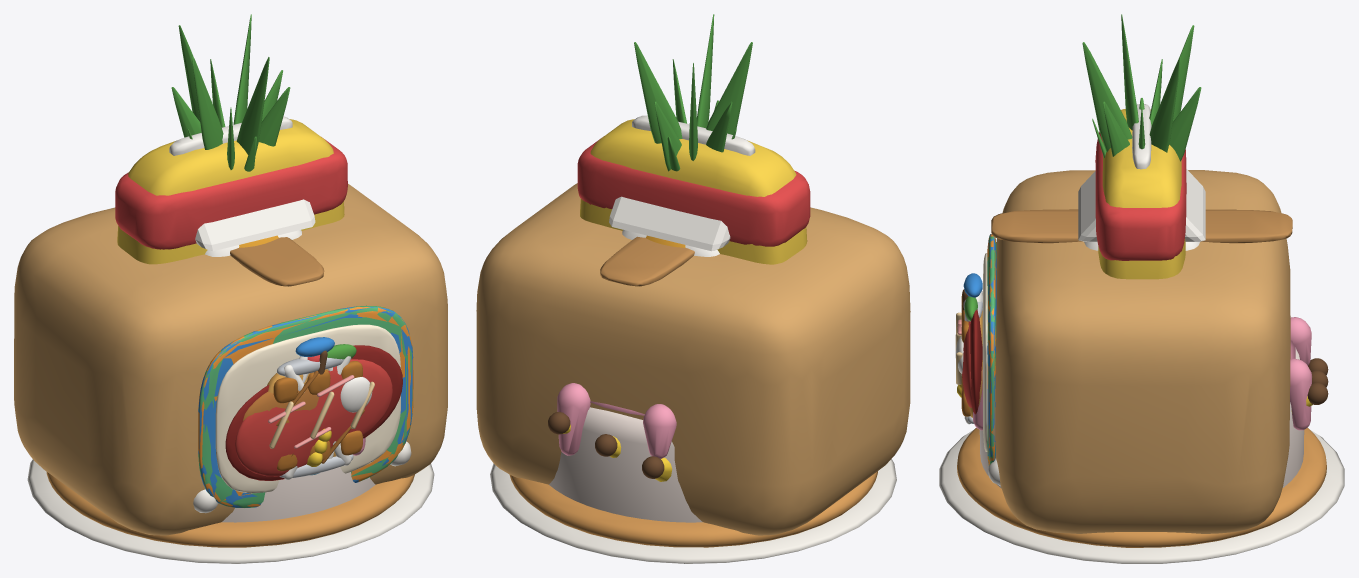
File: productos.glb
The picture shows the model from 3 angles, left to right: view 1: azimuth 30°, elevation 25°; view 2: azimuth 150°, elevation 25°; view 3: azimuth 270°, elevation 25°; orthographic projection.
Parts seen in each view (by area): view 1: caja frutas | caja.002, cereal | franja, cereal | caja, torta | plato, caja frutas | placa clara, pizza | masa, caja carnes | filete, pina | corona 0, caja frutas | placa, leche | cartón, torta | base, caja lacteos | etiqueta.005 (+11 smaller); view 2: caja frutas | caja.002, cereal | franja, cereal | caja, torta | base, torta | plato, pizza | masa, pina | corona 0, leche | cartón, torta | gota 0, caja frutas | cinta, banano | punta 0; view 3: caja frutas | caja.002, torta | plato, pizza | masa, pina | corona 0, cereal | caja, caja frutas | cinta, cereal | franja, leche | cartón, torta | gota 0, caja lacteos | etiqueta.005, caja frutas | placa, torta | base (+5 smaller).
Boxes of the visible parts, <box> form: caja frutas | caja.002: <box>14,184,447,535</box>; cereal | franja: <box>115,138,347,249</box>; cereal | caja: <box>117,119,344,264</box>; torta | plato: <box>27,459,434,563</box>; caja frutas | placa clara: <box>215,324,401,493</box>; pizza | masa: <box>46,471,414,547</box>; caja carnes | filete: <box>235,359,392,476</box>; pina | corona 0: <box>171,14,290,169</box>; caja frutas | placa: <box>198,305,412,507</box>; leche | cartón: <box>169,116,315,256</box>; torta | base: <box>221,467,375,522</box>; caja lacteos | etiqueta.005: <box>198,306,413,507</box>; caja frutas | caja.002: <box>476,183,910,535</box>; cereal | franja: <box>577,138,810,246</box>; cereal | caja: <box>580,119,807,264</box>; torta | base: <box>549,407,702,522</box>; torta | plato: <box>490,459,896,563</box>; pizza | masa: <box>509,471,877,547</box>; pina | corona 0: <box>634,14,752,171</box>; leche | cartón: <box>609,115,755,256</box>; torta | gota 0: <box>557,383,676,458</box>; caja frutas | cinta: <box>600,236,694,286</box>; banano | punta 0: <box>548,411,664,478</box>; caja frutas | caja.002: <box>995,170,1290,533</box>; torta | plato: <box>939,430,1344,563</box>; pizza | masa: <box>957,428,1326,547</box>; pina | corona 0: <box>1082,14,1201,161</box>; cereal | caja: <box>1098,109,1185,279</box>; caja frutas | cinta: <box>991,209,1292,243</box>; cereal | franja: <box>1095,131,1186,260</box>; leche | cartón: <box>1078,104,1205,250</box>; torta | gota 0: <box>973,317,1311,430</box>; caja lacteos | etiqueta.005: <box>963,234,996,462</box>; caja frutas | placa: <box>987,235,996,466</box>; torta | base: <box>979,347,1304,488</box>.
Size of the model in its own units: 0.4087 by 0.4949 by 0.4087.
